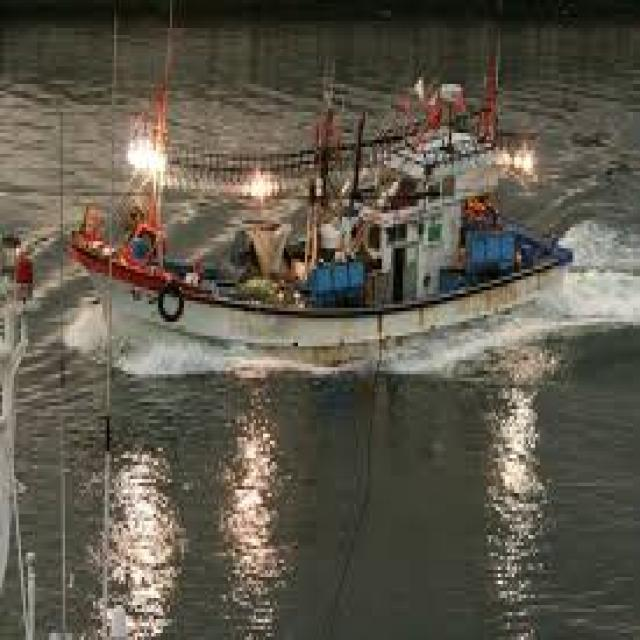Ship: (45, 43, 588, 375)
